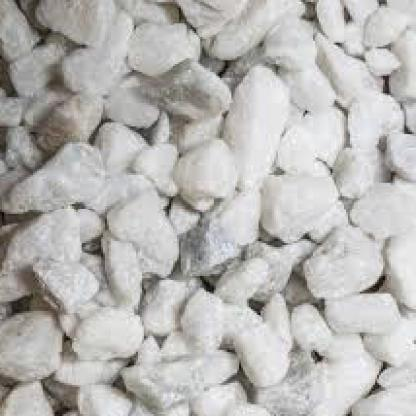Metamorphic_Marble: (0, 198, 96, 319), (212, 62, 293, 181), (289, 212, 394, 299), (214, 299, 309, 389), (0, 144, 123, 211), (183, 173, 262, 264), (64, 292, 148, 366), (119, 15, 216, 76), (105, 191, 175, 274), (0, 301, 61, 391), (165, 132, 239, 202), (33, 81, 105, 146), (342, 84, 404, 150), (134, 263, 196, 307)
